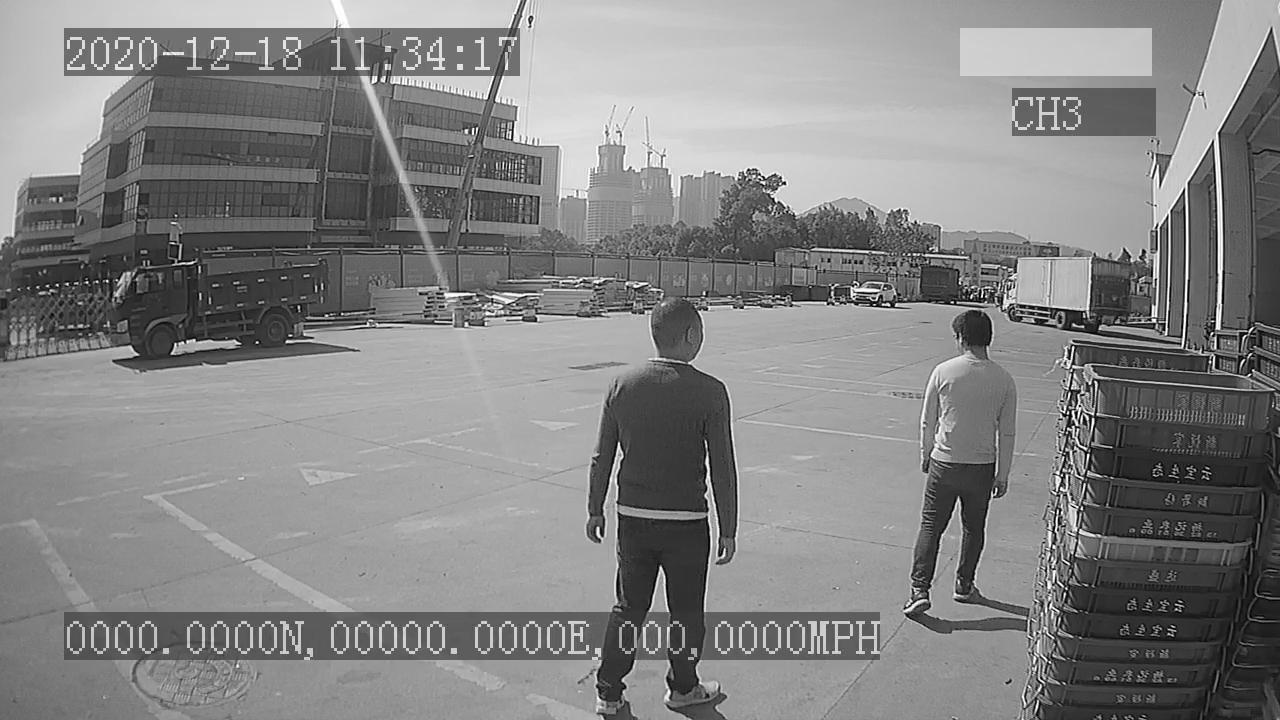person: (895, 307, 1018, 617)
